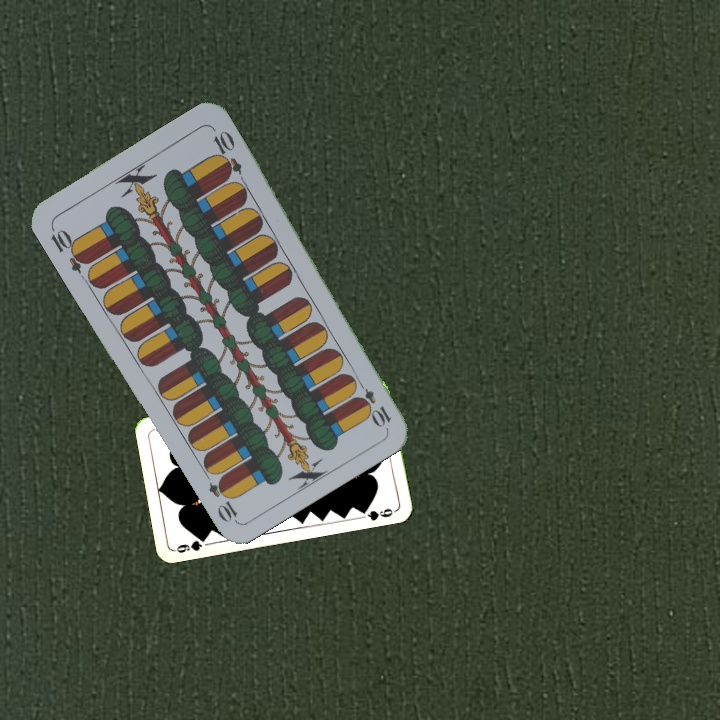E10: (46, 222, 92, 276), (351, 375, 394, 429)
G9: (171, 532, 210, 556)
